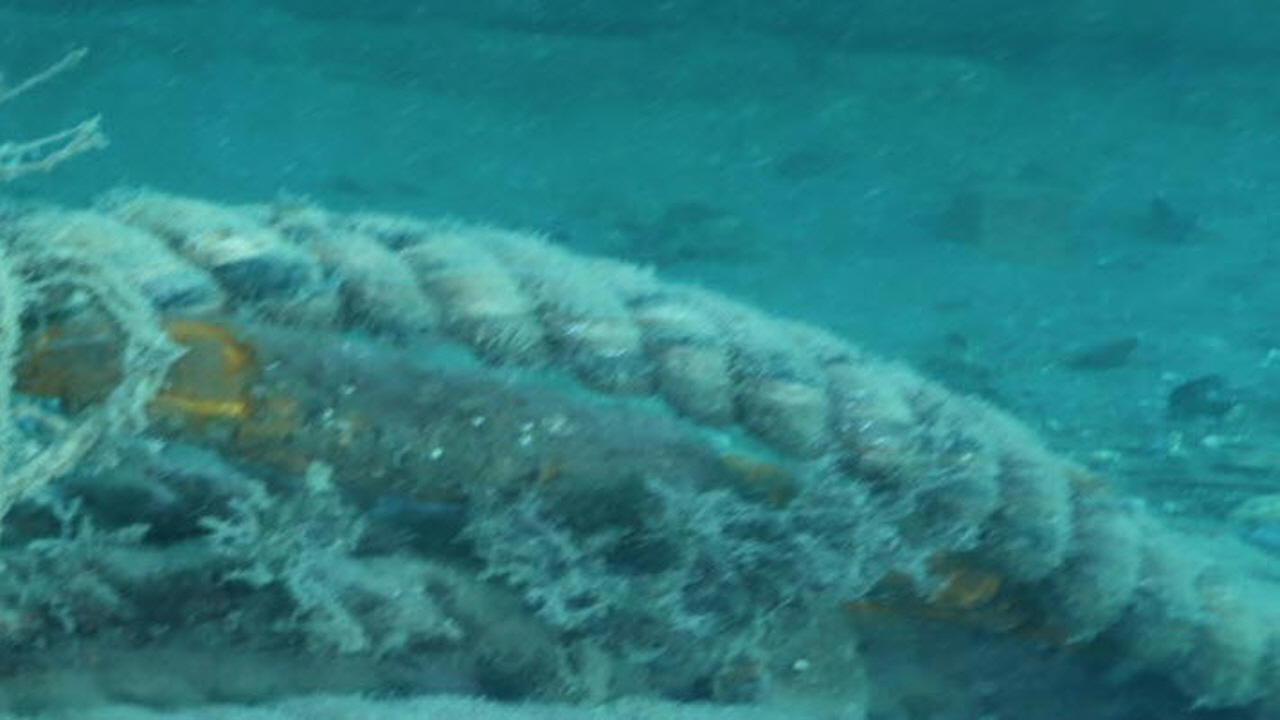bundle of ropes: (0, 193, 1280, 720)
